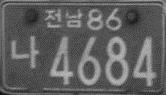4: (48, 34, 74, 86), (132, 36, 157, 88)
6: (74, 36, 101, 86), (105, 8, 122, 32)
8: (105, 35, 129, 87), (87, 8, 103, 31)
나: (9, 33, 40, 70)
전남_O: (44, 8, 83, 29)
